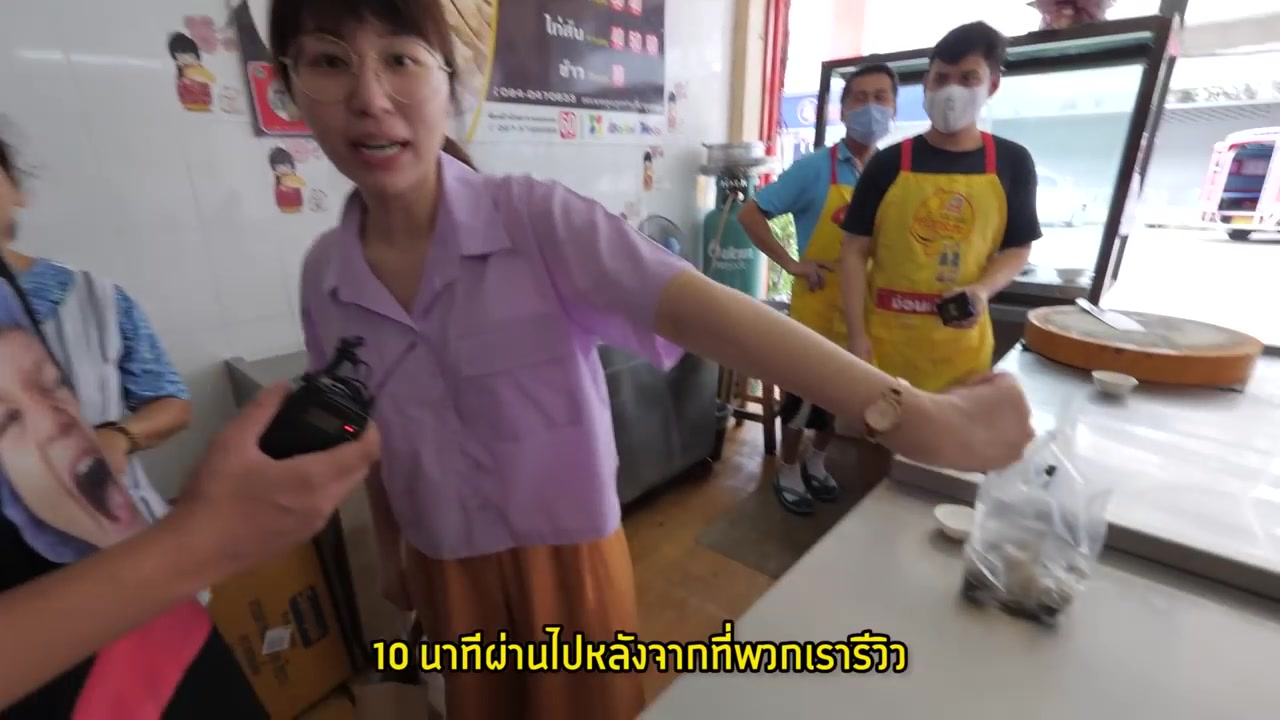text-label: (367, 616, 913, 676)
